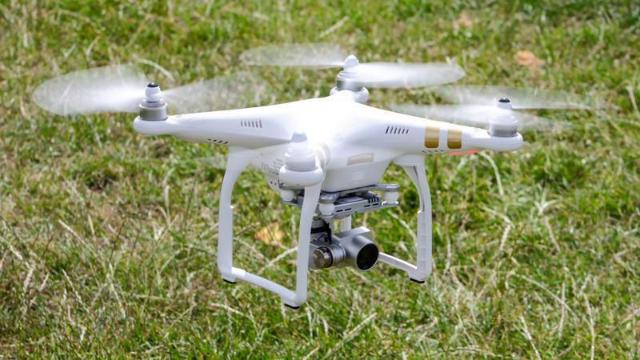drone: (0, 20, 640, 310)
